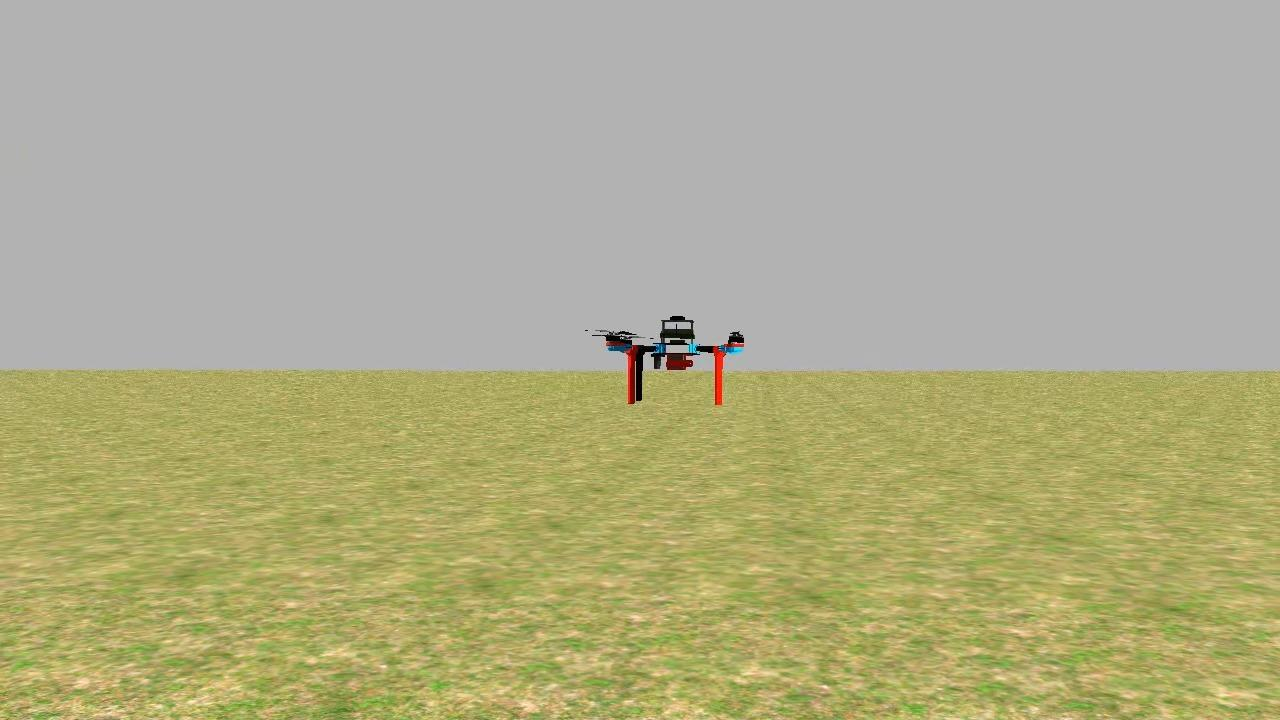UAV: (593, 290, 762, 419)
